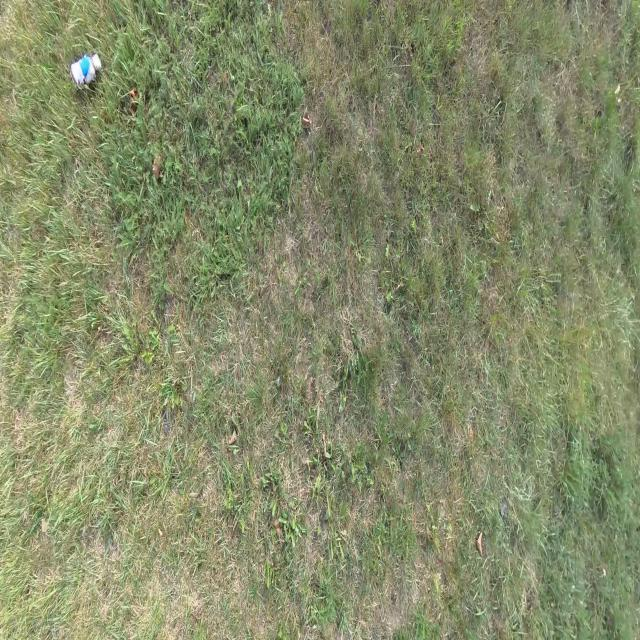rubbish: (69, 51, 101, 85)
